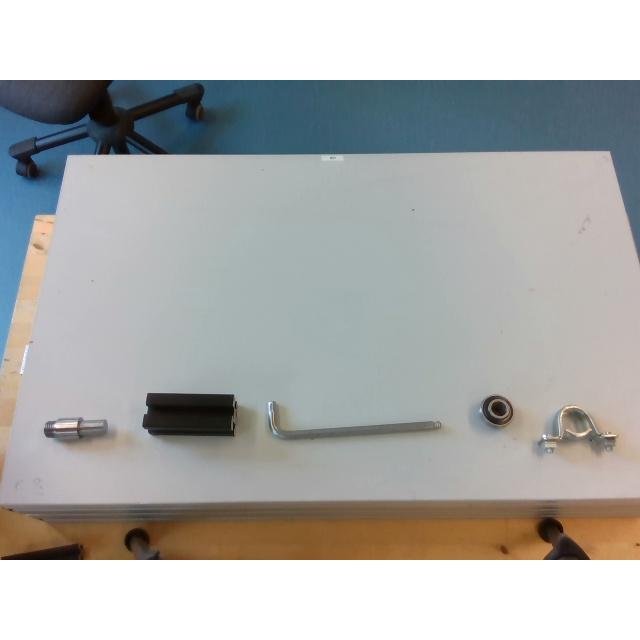AllenKey: (266, 400, 442, 440)
Axis2: (44, 418, 108, 438)
Bearing2: (481, 394, 512, 426)
Housing: (538, 404, 614, 450)
S40_40_B: (142, 393, 236, 435)
